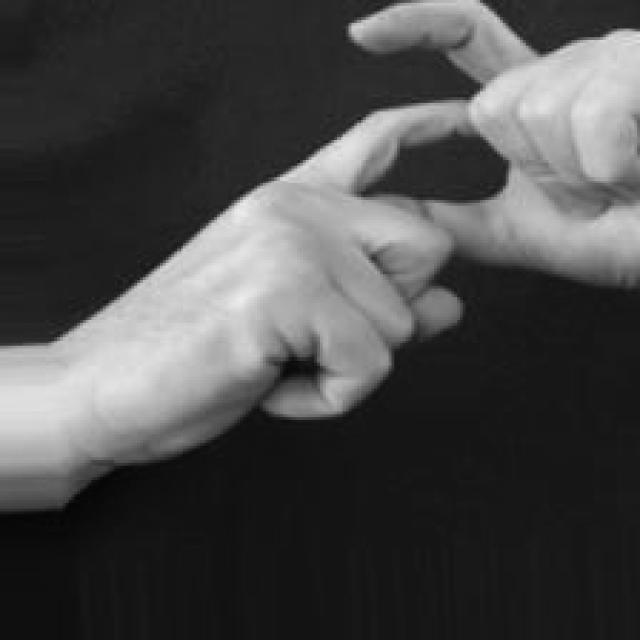G: (61, 0, 640, 508)
